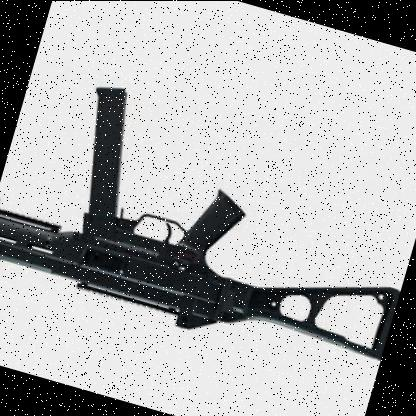rifle: (0, 56, 416, 410)
